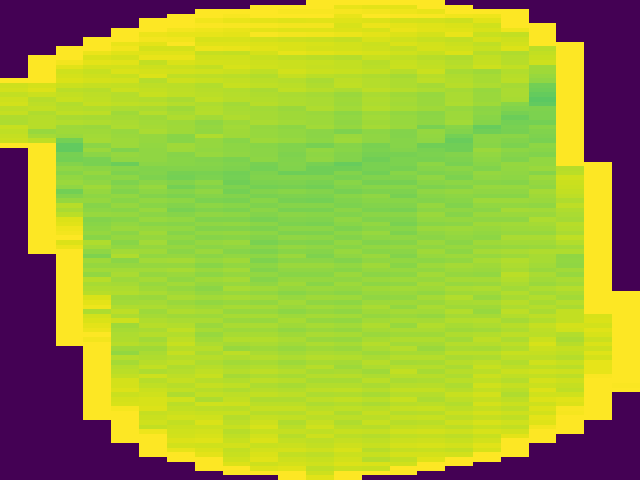cylinder: (2, 1, 640, 480)
